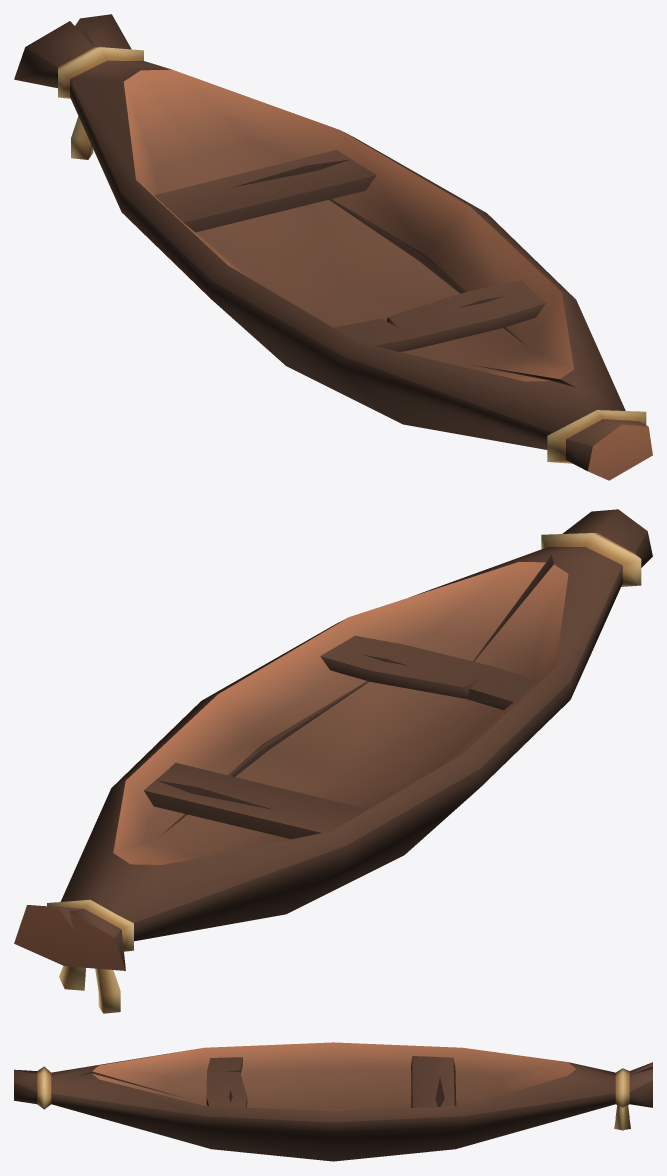
File: Boat_1A.FBX
3 views of the same model, one above another, from view 1: azimuth 30°, elevation 25°; view 2: azimuth 150°, elevation 25°; view 3: azimuth 270°, elevation 25° (orthographic). The views are drawn at different scales.
Parts seen in each view (by area): view 1: Boat_1A; view 2: Boat_1A; view 3: Boat_1A.
Part boxes in pixels (<box>): Boat_1A: <box>14,14,652,480</box>; Boat_1A: <box>14,509,652,1013</box>; Boat_1A: <box>14,1042,652,1161</box>.
Bounding box in the file's own units: 109 × 49.29 × 375.
